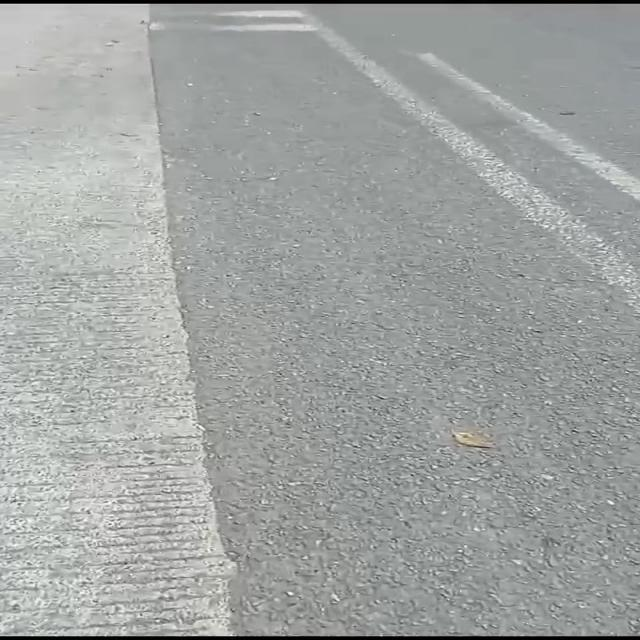Sambungan: (0, 0, 233, 635)
